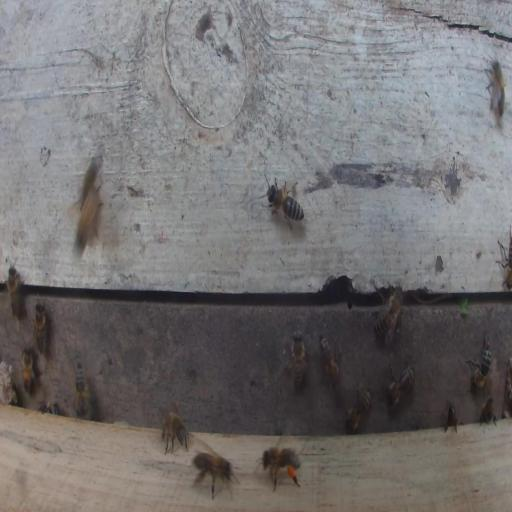nonpollenbee: (259, 171, 306, 231), (369, 278, 404, 348), (341, 380, 372, 438), (74, 183, 100, 251), (483, 57, 506, 126), (465, 333, 492, 389), (388, 356, 415, 406), (319, 330, 340, 390), (32, 295, 53, 355), (495, 222, 512, 292), (290, 329, 308, 388), (7, 264, 25, 318), (20, 342, 38, 393), (75, 360, 89, 419), (479, 397, 499, 427), (444, 405, 458, 434)
pollenbee: (259, 441, 305, 489), (192, 447, 233, 495), (162, 409, 188, 454)
